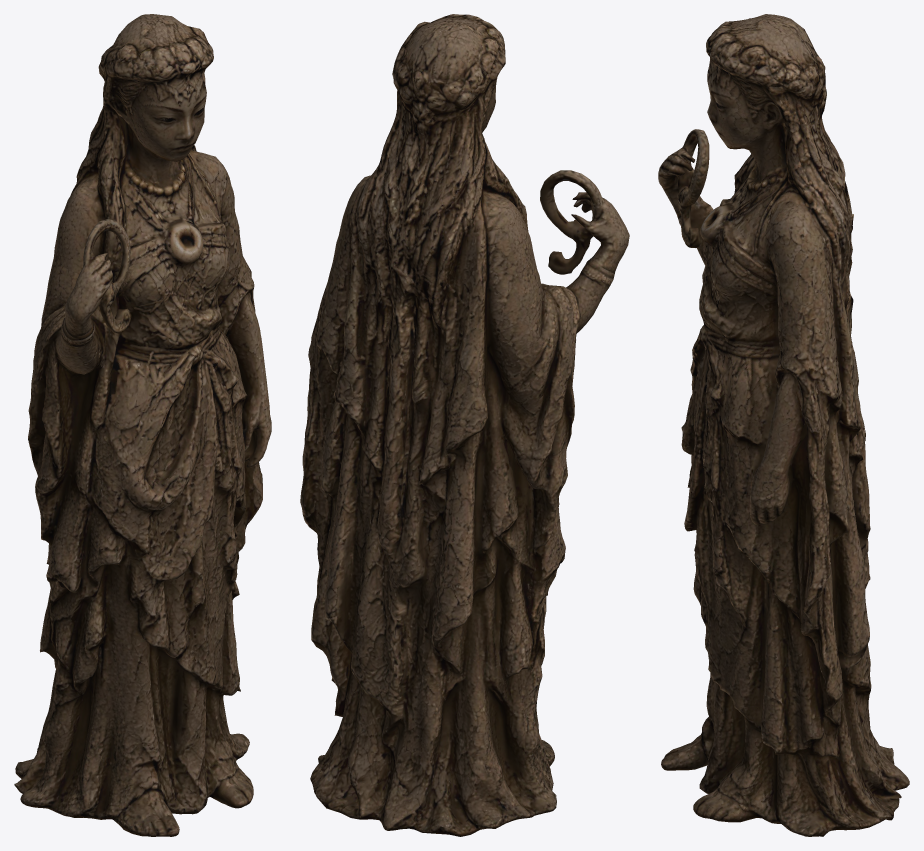
Rendered from bodhisattva_statue_3d_model_1.fbx.
3 renders of one model, left to right at view 1: azimuth 30°, elevation 25°; view 2: azimuth 150°, elevation 25°; view 3: azimuth 270°, elevation 25°, orthographic. The views are drawn at different scales.
Parts seen in each view (by area): view 1: tripo_node_ffc4070a; view 2: tripo_node_ffc4070a; view 3: tripo_node_ffc4070a.
Boxes of the visible parts, left/top/right/bottom form: tripo_node_ffc4070a: left=14, top=14, right=271, bottom=836; tripo_node_ffc4070a: left=300, top=14, right=629, bottom=836; tripo_node_ffc4070a: left=658, top=14, right=909, bottom=836.
Size of the model in its own units: 0.3402 by 0.9649 by 0.2845.
